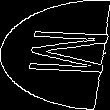M_E: (4, 30, 106, 80)
